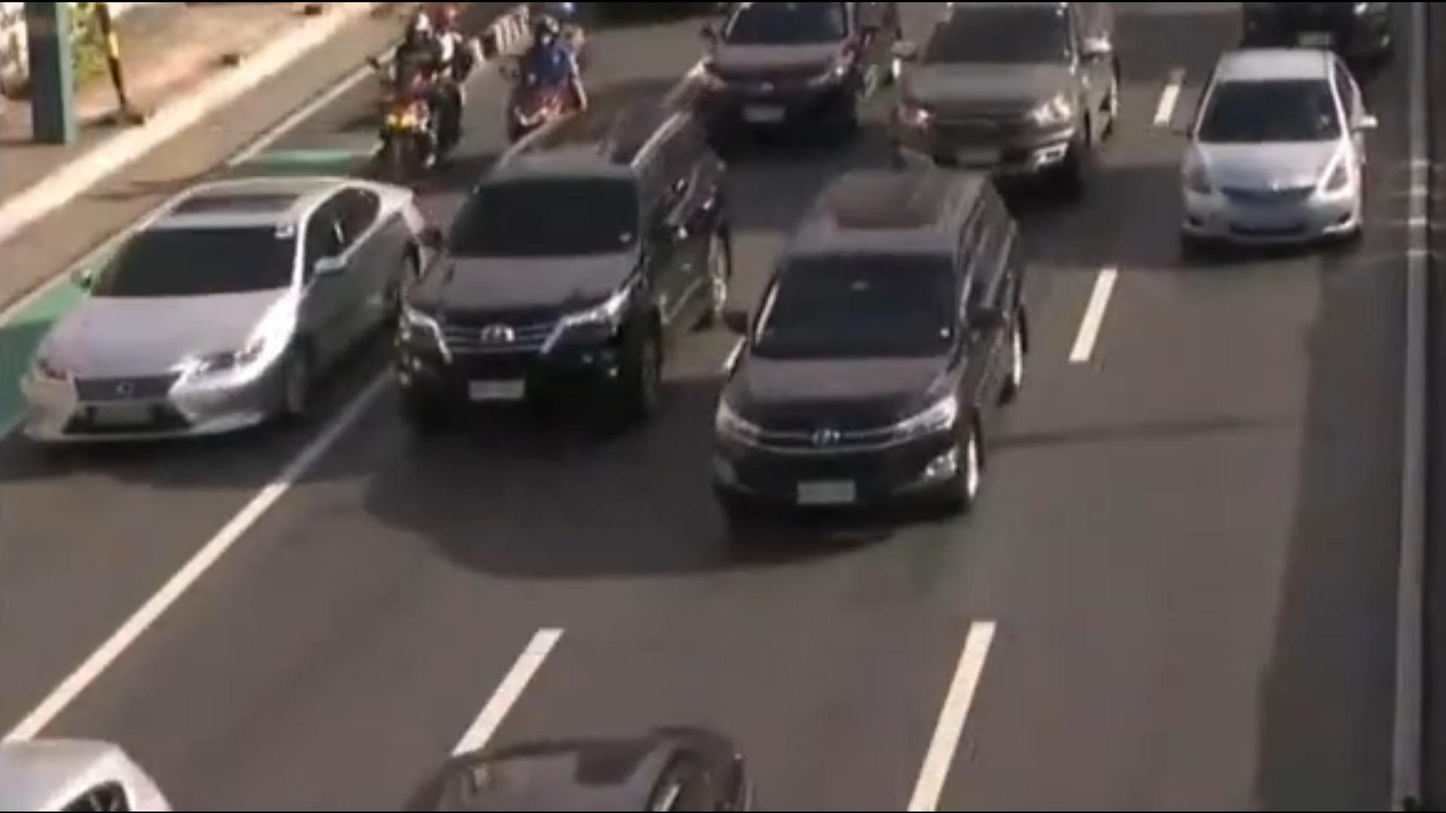Motorcycle: (359, 0, 479, 197), (501, 0, 620, 145)
SUV: (689, 157, 1072, 563), (358, 93, 755, 440), (878, 2, 1145, 209), (688, 6, 911, 164)
Sedan: (0, 151, 450, 462), (1149, 34, 1397, 271)
